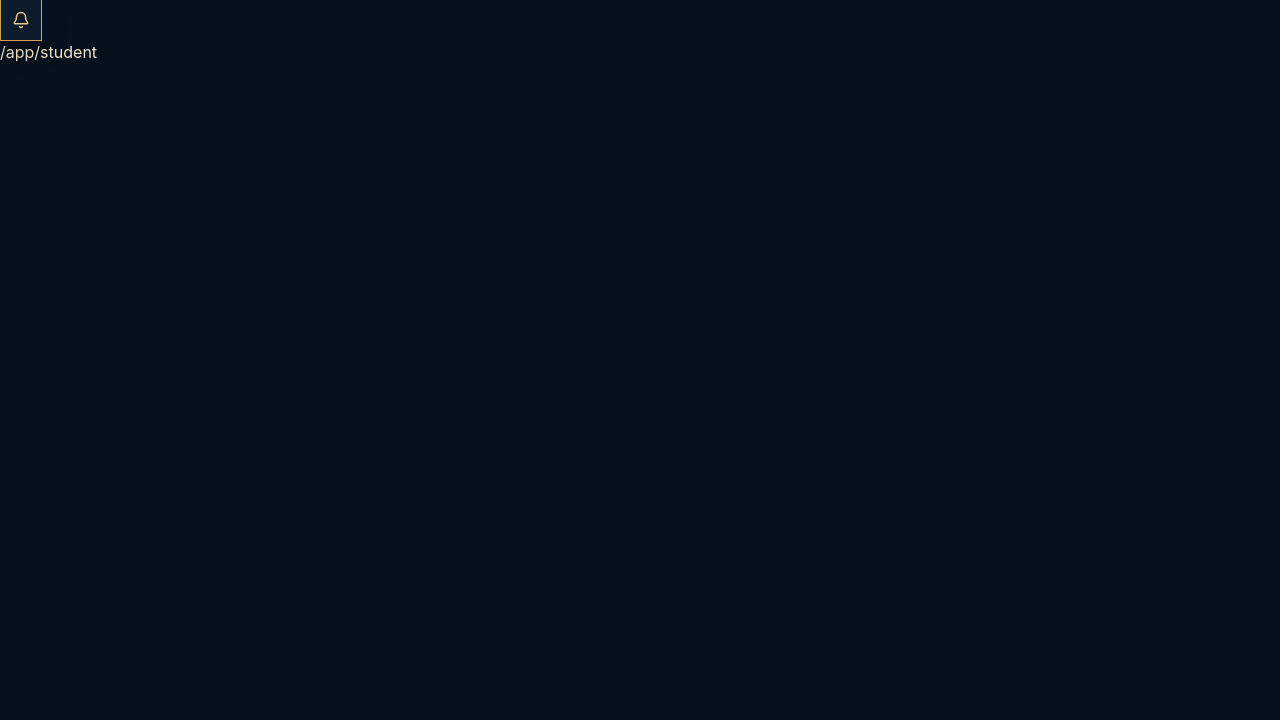
Test: NotificationCenter › filters unread notifications through the REST query
Click the button named "Open notifications": (21, 20) [0,0,42,41]
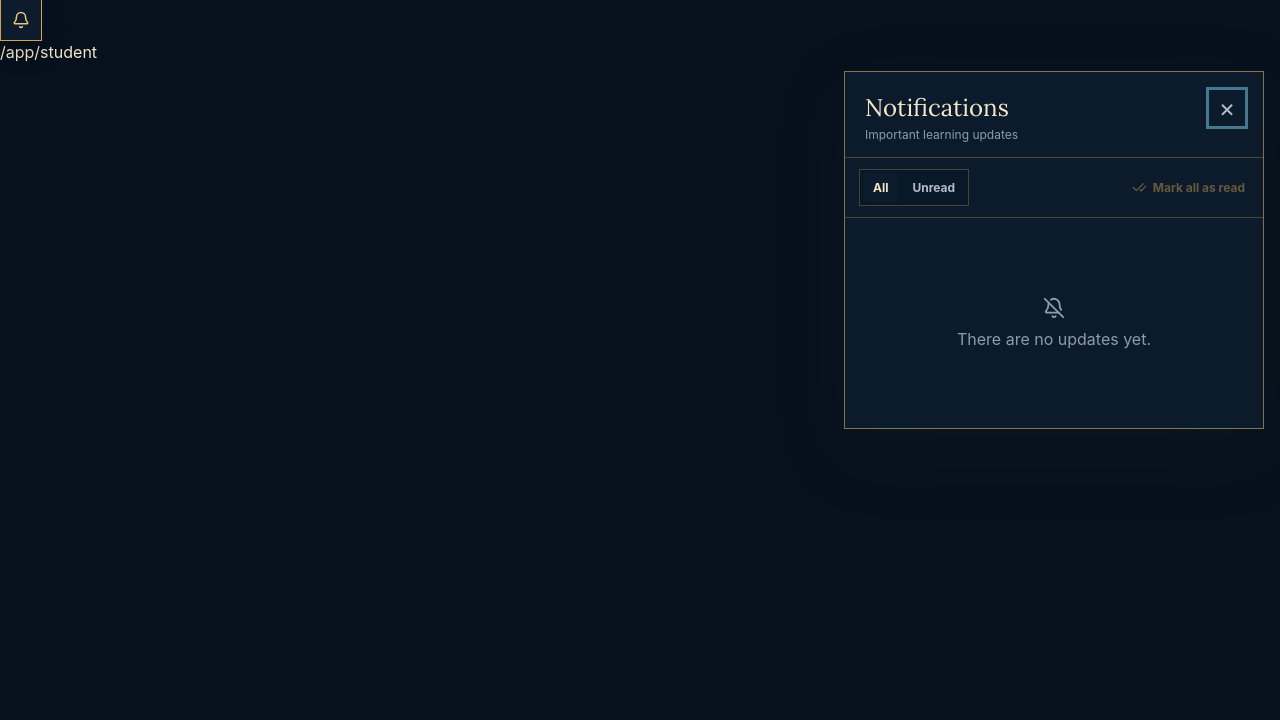
Expected: the text "There are no updates yet." is shown, [957,329,1151,349]
Click the button "Unread": (934, 188) [902,173,965,202]
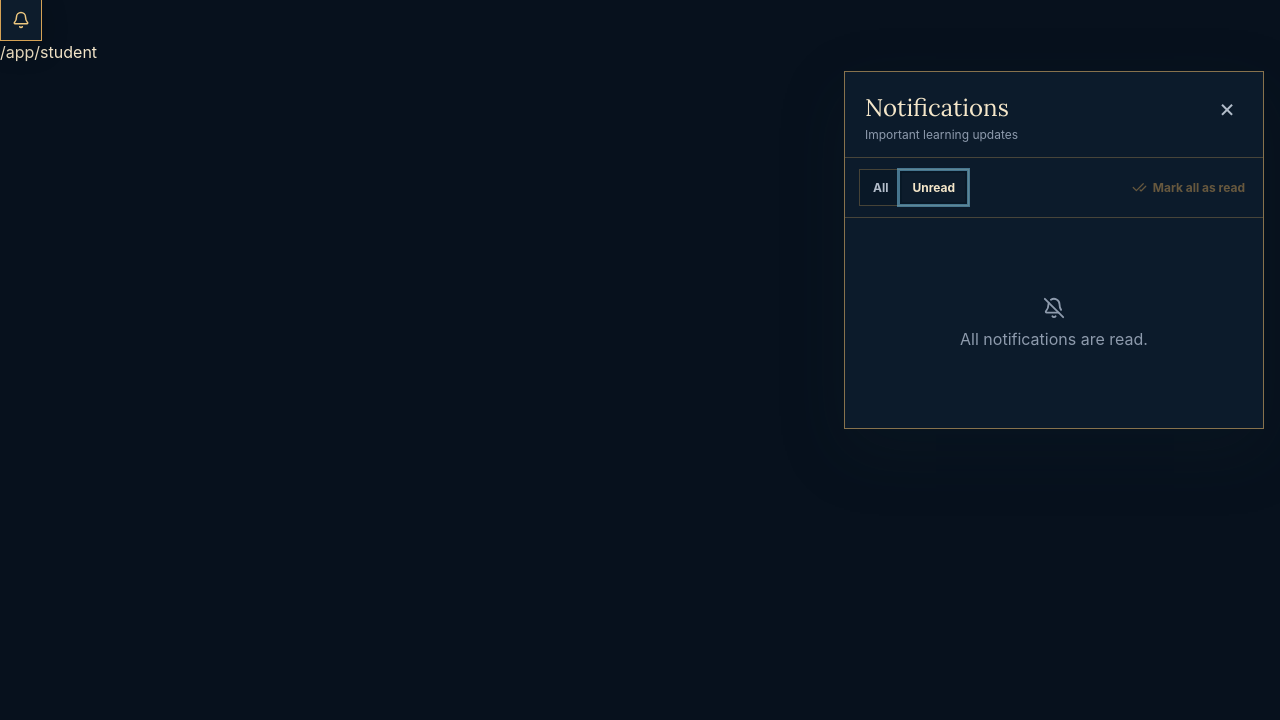
Expected: the text "All notifications are read." is shown, [960,329,1148,349]
